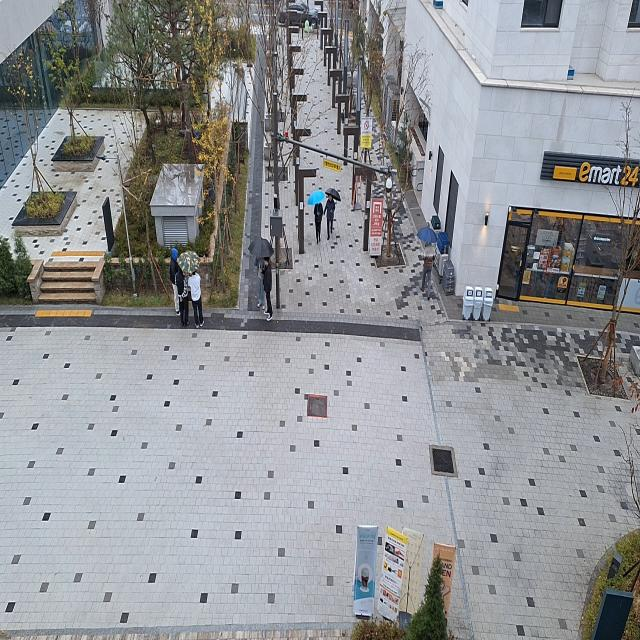Car: (270, 0, 325, 36)
